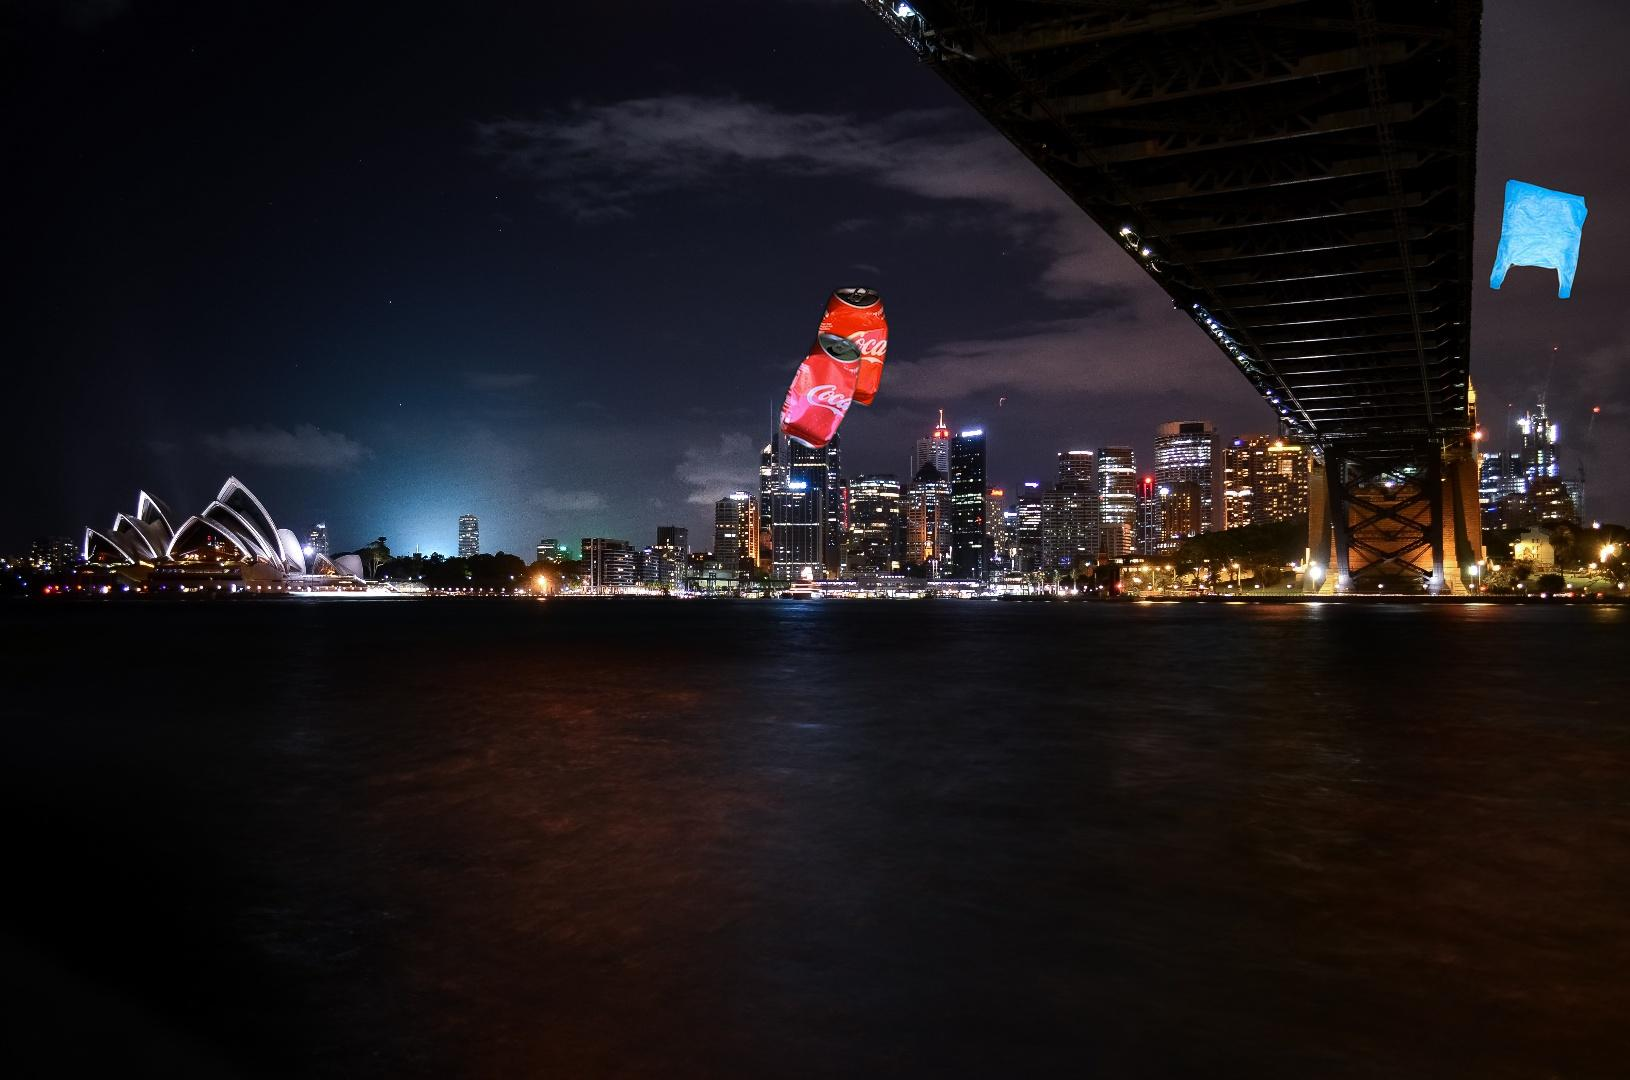metal-cans: (714, 325, 866, 610), (811, 280, 894, 413)
plastic-bag: (1485, 176, 1591, 303)
